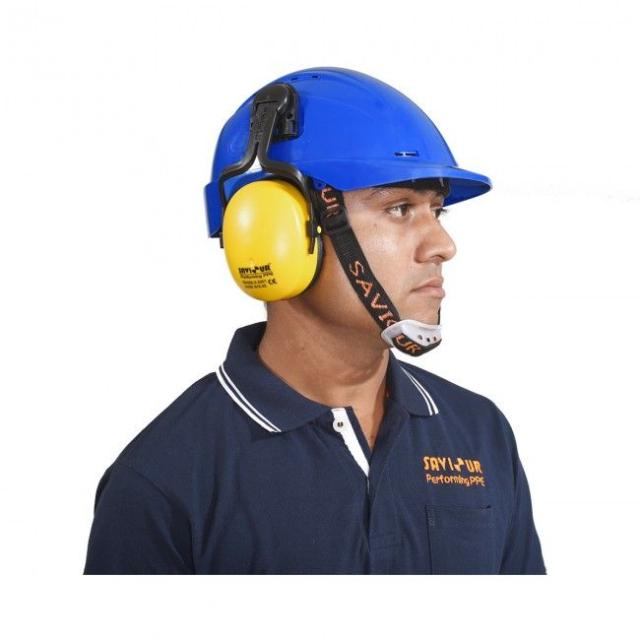Ear-Protection: (222, 179, 325, 303)
Helmet: (190, 63, 495, 209)
